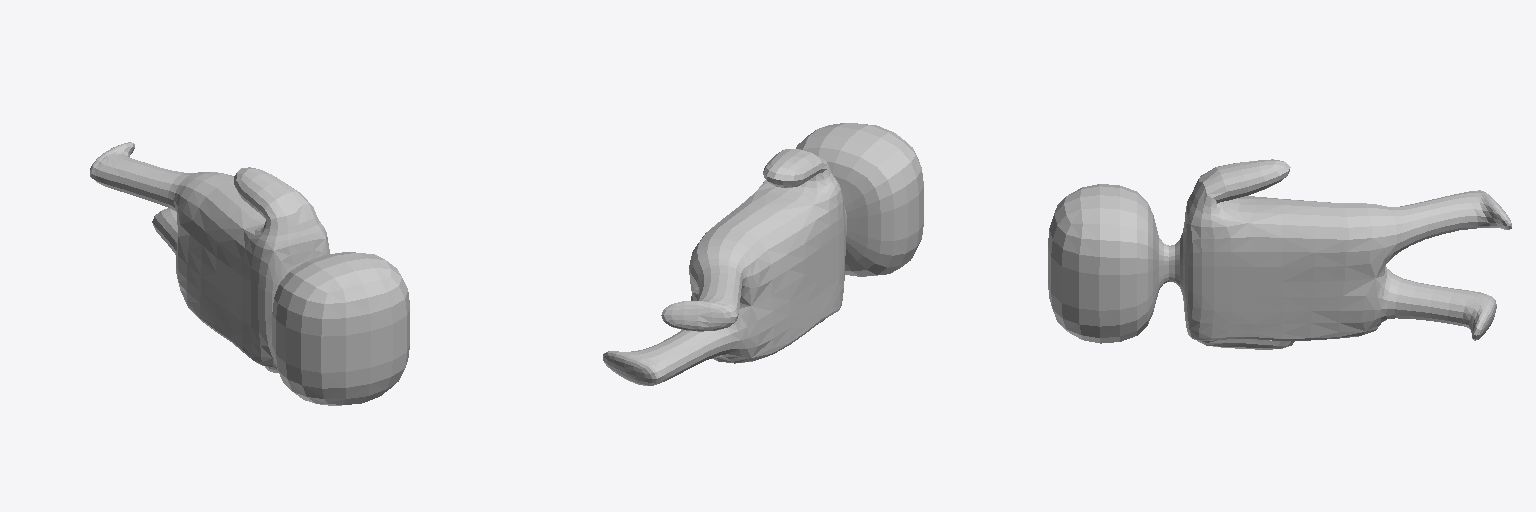
The model's file is antman_walk_11.obj.
3 views of the same model, side by side, from view 1: azimuth 30°, elevation 25°; view 2: azimuth 150°, elevation 25°; view 3: azimuth 270°, elevation 25° (orthographic).
Visible parts, largest first — view 1: Cube; view 2: Cube; view 3: Cube.
Boxes of the visible parts, x1=… form: Cube: x1=90, y1=142, x2=409, y2=405; Cube: x1=603, y1=123, x2=923, y2=385; Cube: x1=1048, y1=159, x2=1511, y2=349.
Size of the model in its own units: 0.6579 by 0.8451 by 1.97.